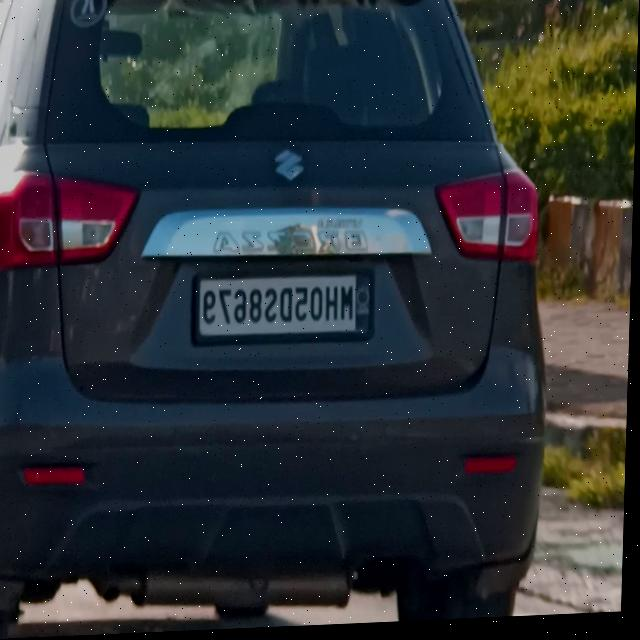plate: (194, 268, 379, 348)
